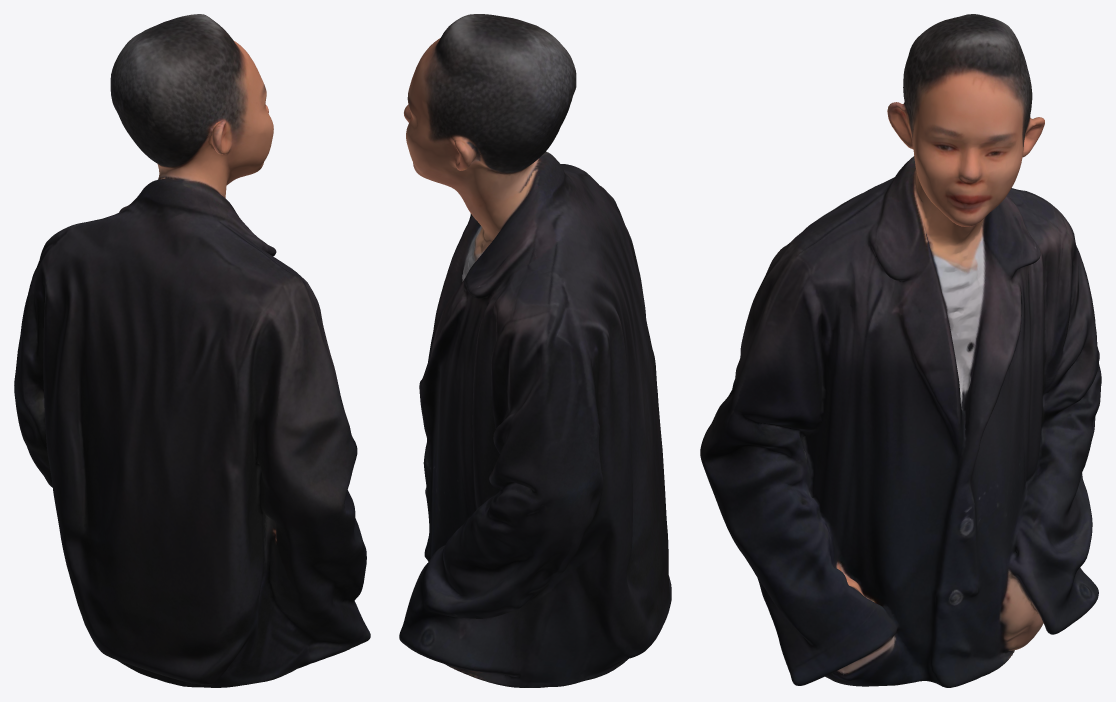
3 views of the same model, side by side, from view 1: azimuth 30°, elevation 25°; view 2: azimuth 150°, elevation 25°; view 3: azimuth 270°, elevation 25° (orthographic). The views are drawn at different scales.
Visible parts, largest first — view 1: tripo_node_86390f78-d793-4be3-b31a-69242fc7222e; view 2: tripo_node_86390f78-d793-4be3-b31a-69242fc7222e; view 3: tripo_node_86390f78-d793-4be3-b31a-69242fc7222e.
Boxes of the visible parts, x1=… form: tripo_node_86390f78-d793-4be3-b31a-69242fc7222e: x1=14, y1=14, x2=370, y2=687; tripo_node_86390f78-d793-4be3-b31a-69242fc7222e: x1=399, y1=14, x2=671, y2=687; tripo_node_86390f78-d793-4be3-b31a-69242fc7222e: x1=700, y1=14, x2=1101, y2=687.
Size of the model in its own units: 0.3911 by 0.9483 by 0.5521.
1 material, 1 textured.
